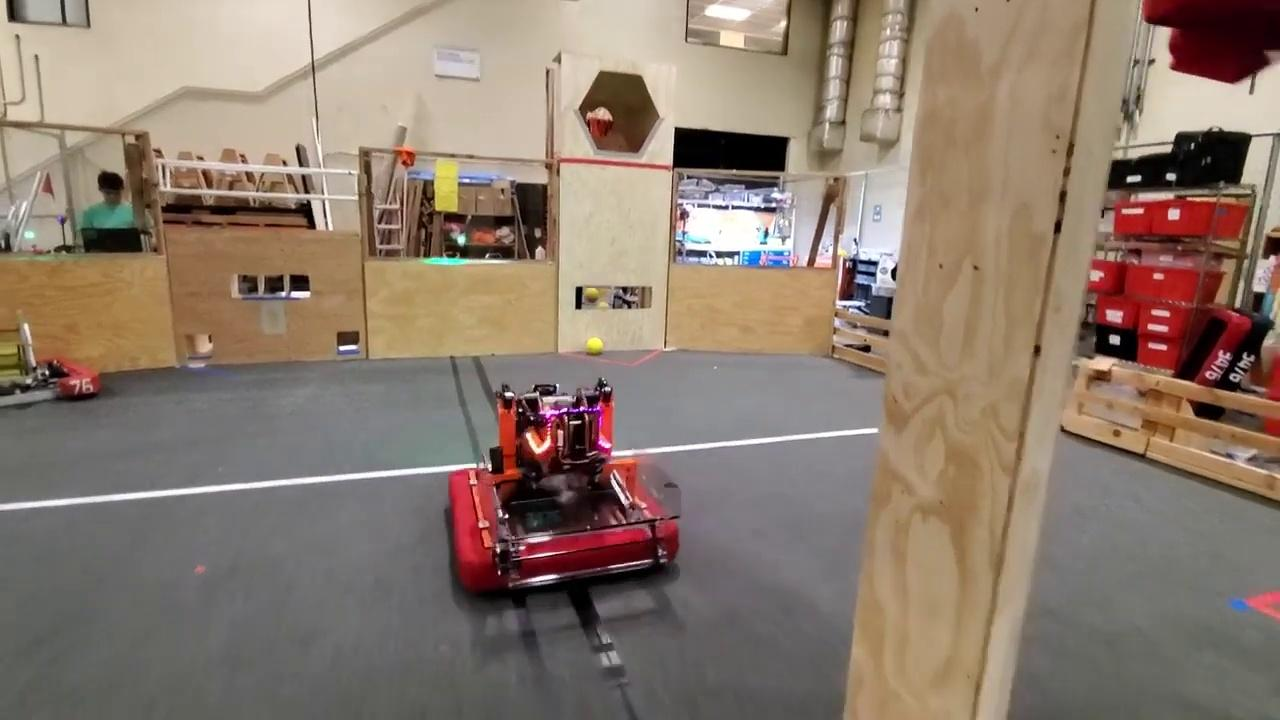robot: (445, 378, 687, 604), (0, 304, 103, 413)
